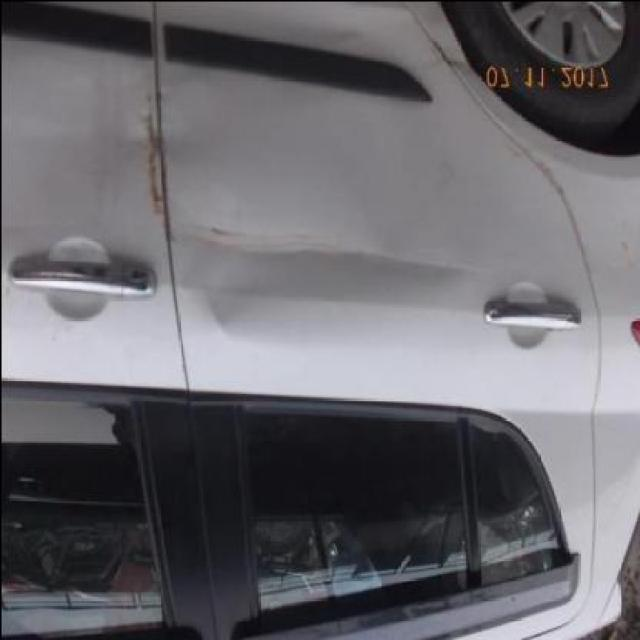damage: (175, 213, 495, 356), (505, 132, 597, 286), (343, 2, 468, 83), (143, 92, 163, 226), (427, 32, 465, 72), (614, 214, 636, 276)
